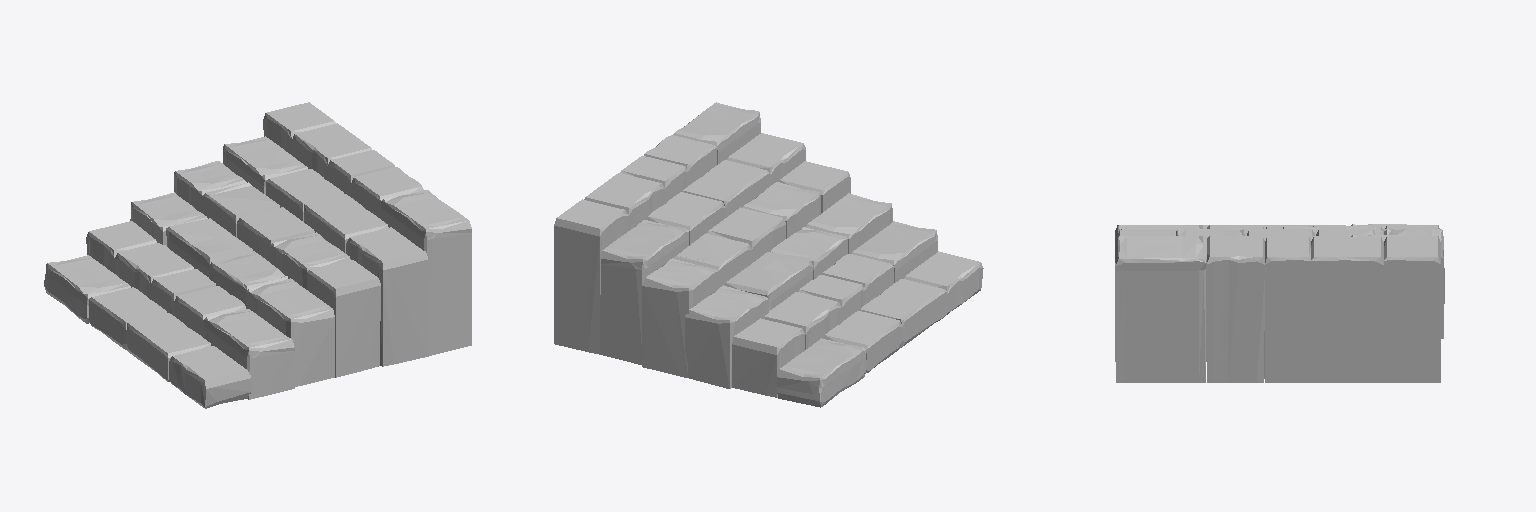
Rendered from Stairs.obj.
The picture shows the model from 3 angles: view 1: azimuth 30°, elevation 25°; view 2: azimuth 150°, elevation 25°; view 3: azimuth 270°, elevation 25°; orthographic projection.
Visible parts, largest first — view 1: Stairs_Cylinder.025; view 2: Stairs_Cylinder.025; view 3: Stairs_Cylinder.025.
Boxes of the visible parts, x1,y1,x2,y2 form: Stairs_Cylinder.025: [44, 102, 471, 408]; Stairs_Cylinder.025: [554, 102, 983, 407]; Stairs_Cylinder.025: [1115, 224, 1444, 382].
Size of the model in its own units: 2.02 by 0.9218 by 2.15.